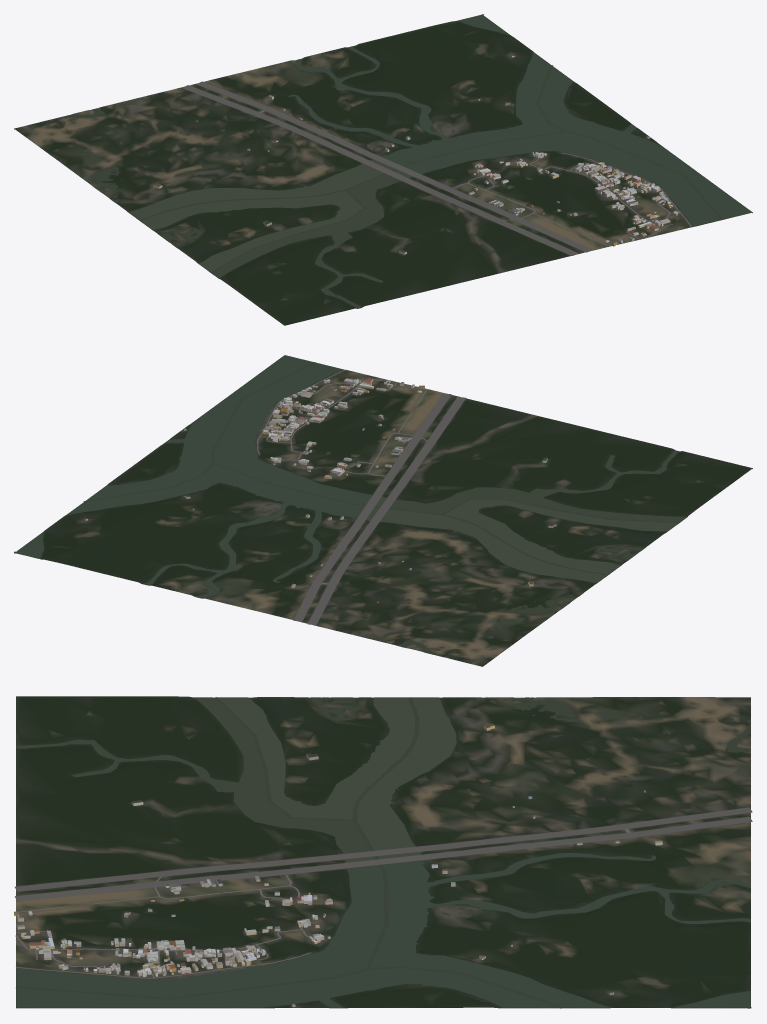
The picture shows the model from 3 angles, top to bottom: view 1: azimuth 30°, elevation 25°; view 2: azimuth 150°, elevation 25°; view 3: azimuth 270°, elevation 25°; orthographic projection. The views are drawn at different scales.
Parts seen in each view (by area): view 1: ground, water, roads, buildings; view 2: ground, water, roads, buildings; view 3: ground, water, roads, buildings.
Part boxes in pixels (x1,y1,x2,y2): ground: (14, 15, 752, 325); water: (55, 14, 751, 308); roads: (182, 81, 691, 255); buildings: (153, 55, 679, 254); ground: (14, 356, 752, 666); water: (14, 355, 686, 656); roads: (257, 369, 465, 625); buildings: (84, 378, 556, 602); ground: (16, 696, 750, 1008); water: (16, 697, 751, 1008); roads: (14, 807, 752, 978); buildings: (14, 723, 662, 1006).
Size of the model in its own units: 1406 by 14.45 by 1408.
